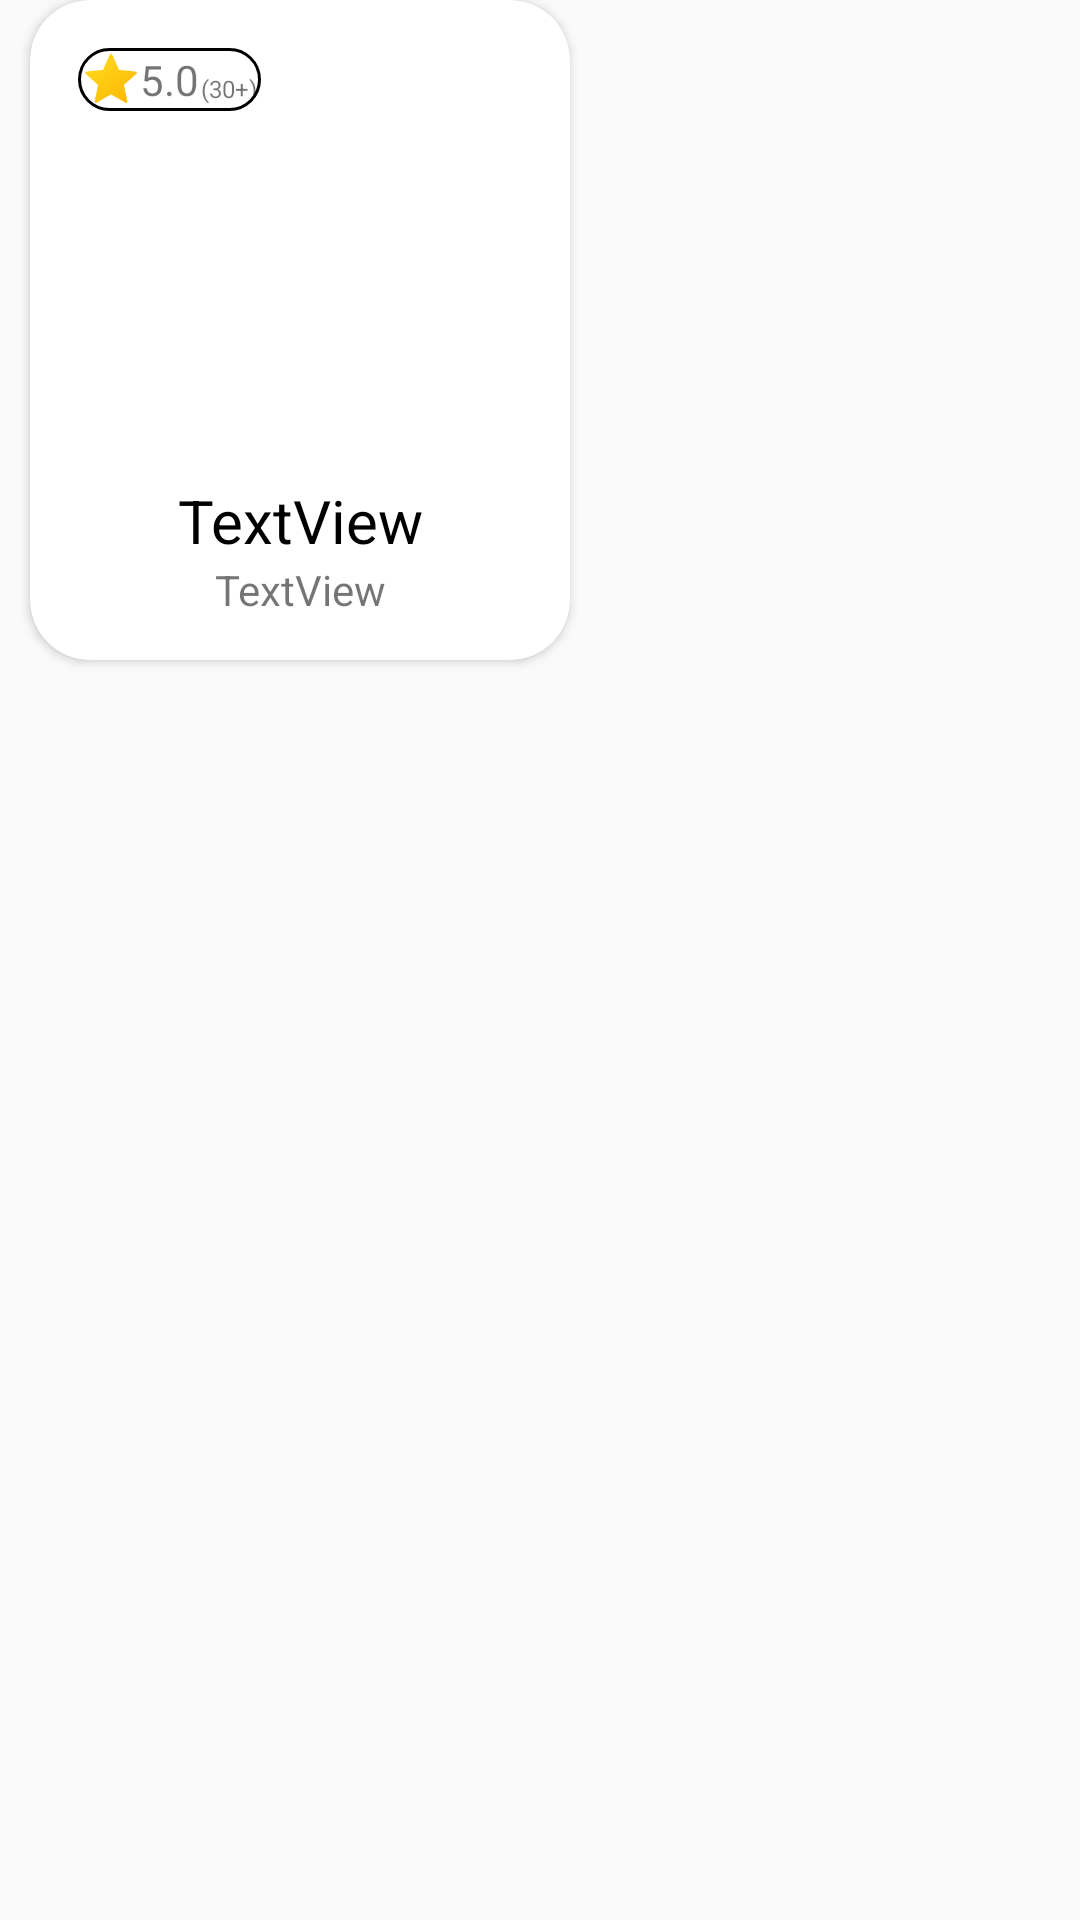

Icon click points for this 1080 × 1920 phone screenshot, format point (x, y):
star: point (111, 78)
